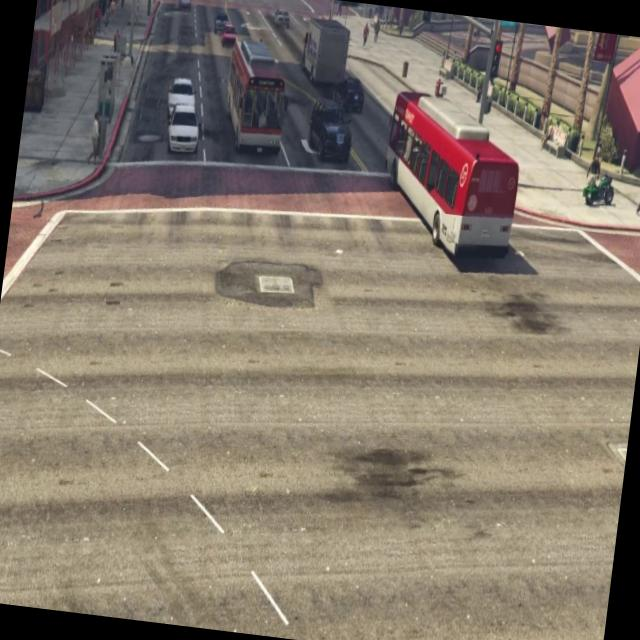Red-Signal: (484, 29, 509, 86), (332, 0, 364, 17), (416, 10, 436, 34)
